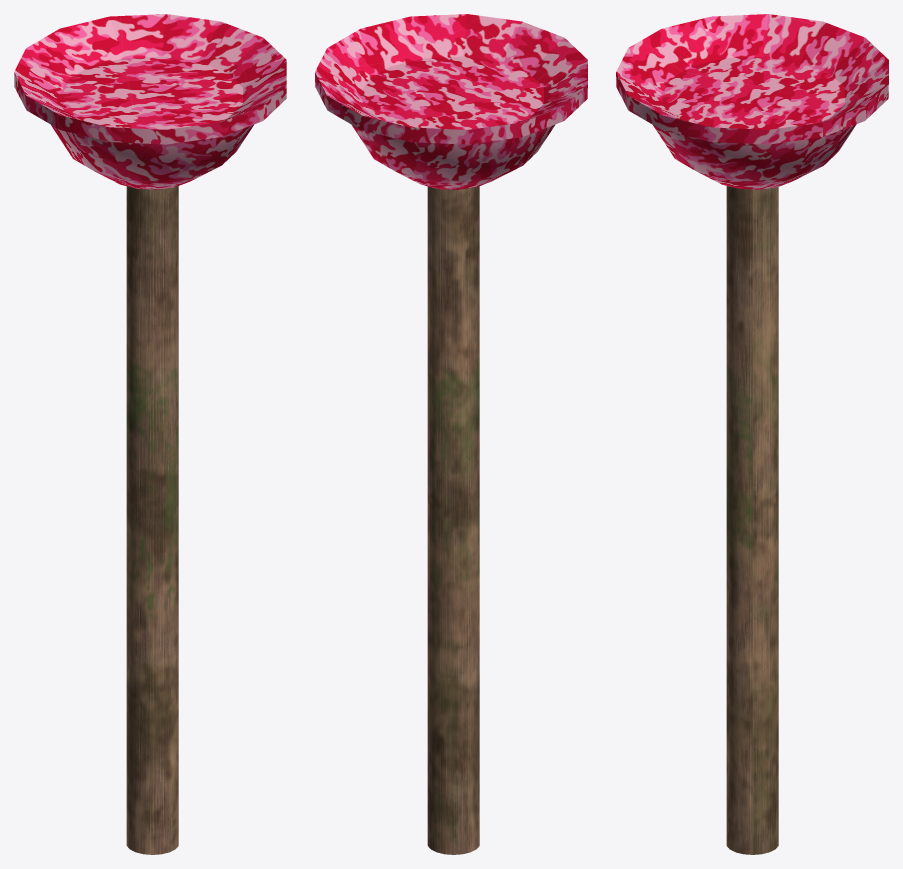
Rendered from Desatascador_pinkcamo.FBX.
3 renders of one model, left to right at view 1: azimuth 30°, elevation 25°; view 2: azimuth 150°, elevation 25°; view 3: azimuth 270°, elevation 25°, orthographic.
Parts seen in each view (by area): view 1: Desatascador, Palo; view 2: Desatascador, Palo; view 3: Desatascador, Palo.
Part boxes in pixels (<box>): Desatascador: <box>14,14,286,189</box>; Palo: <box>126,186,178,854</box>; Desatascador: <box>315,14,587,189</box>; Palo: <box>427,186,479,854</box>; Desatascador: <box>616,14,888,189</box>; Palo: <box>726,186,778,854</box>.
Size of the model in its own units: 0.8388 by 2.6 by 0.8342.
2 materials, 2 textured.
